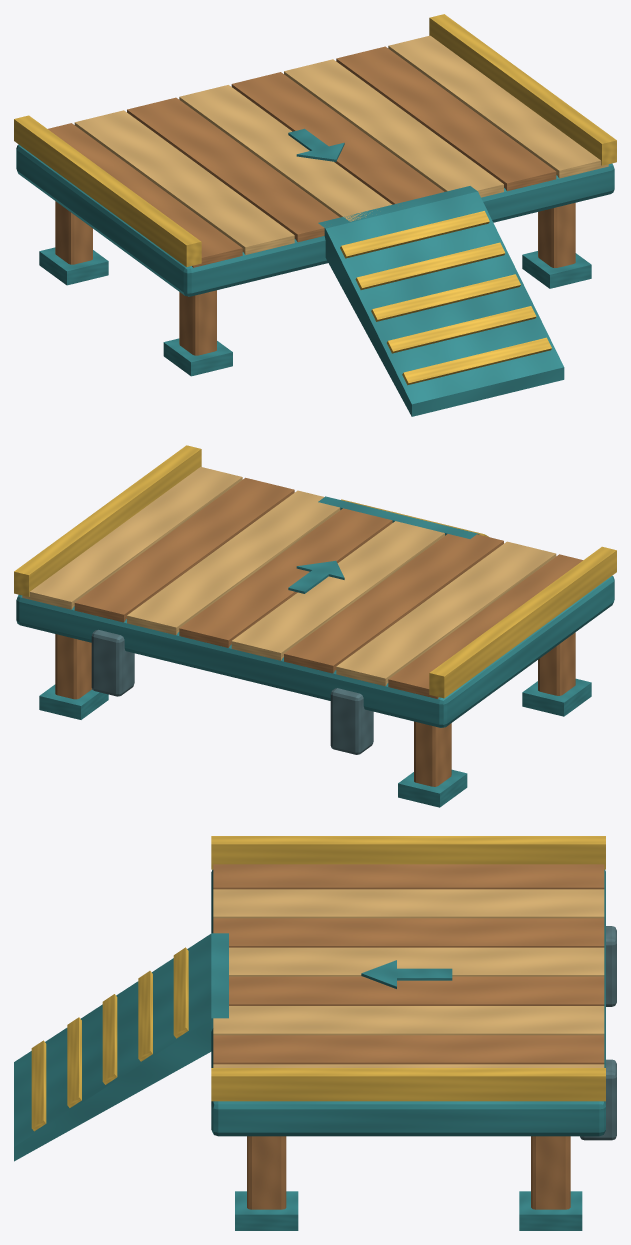
The model's file is industry-loading-dock.glb.
3 views of the same model, one above another, from view 1: azimuth 30°, elevation 25°; view 2: azimuth 150°, elevation 25°; view 3: azimuth 270°, elevation 25° (orthographic). The views are drawn at different scales.
Parts seen in each view (by area): view 1: industry-loading-dock-mesh; view 2: industry-loading-dock-mesh; view 3: industry-loading-dock-mesh.
Part boxes in pixels (x1,y1,x2,y2): industry-loading-dock-mesh: (14, 14, 616, 416); industry-loading-dock-mesh: (14, 445, 616, 807); industry-loading-dock-mesh: (14, 836, 616, 1230).
Bounding box in the file's own units: 2.88 × 0.91 × 3.06.
1 material, 1 textured.
